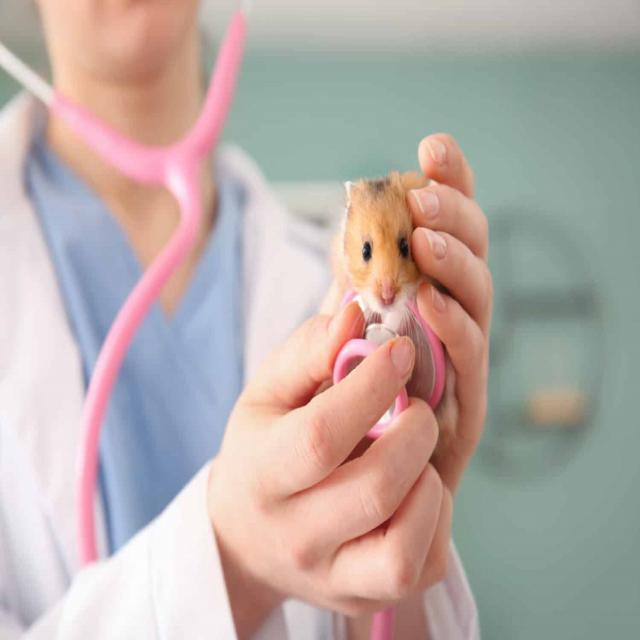hamster: (341, 175, 427, 312)
